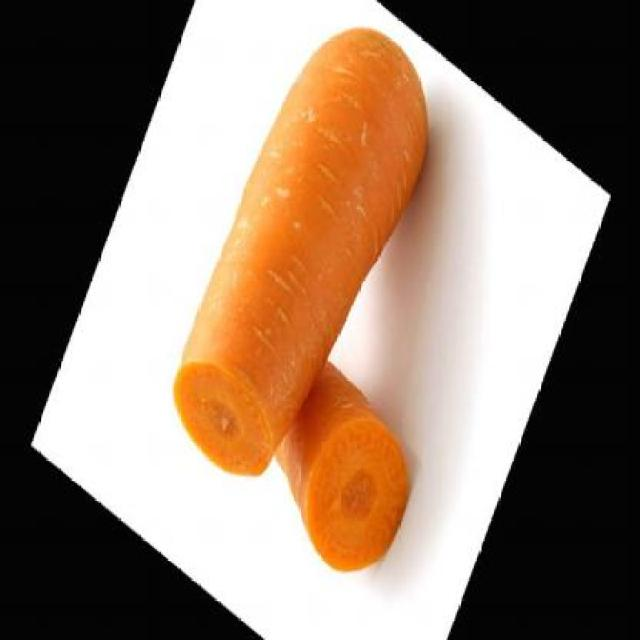carrot: (156, 0, 456, 534), (252, 348, 430, 603)
